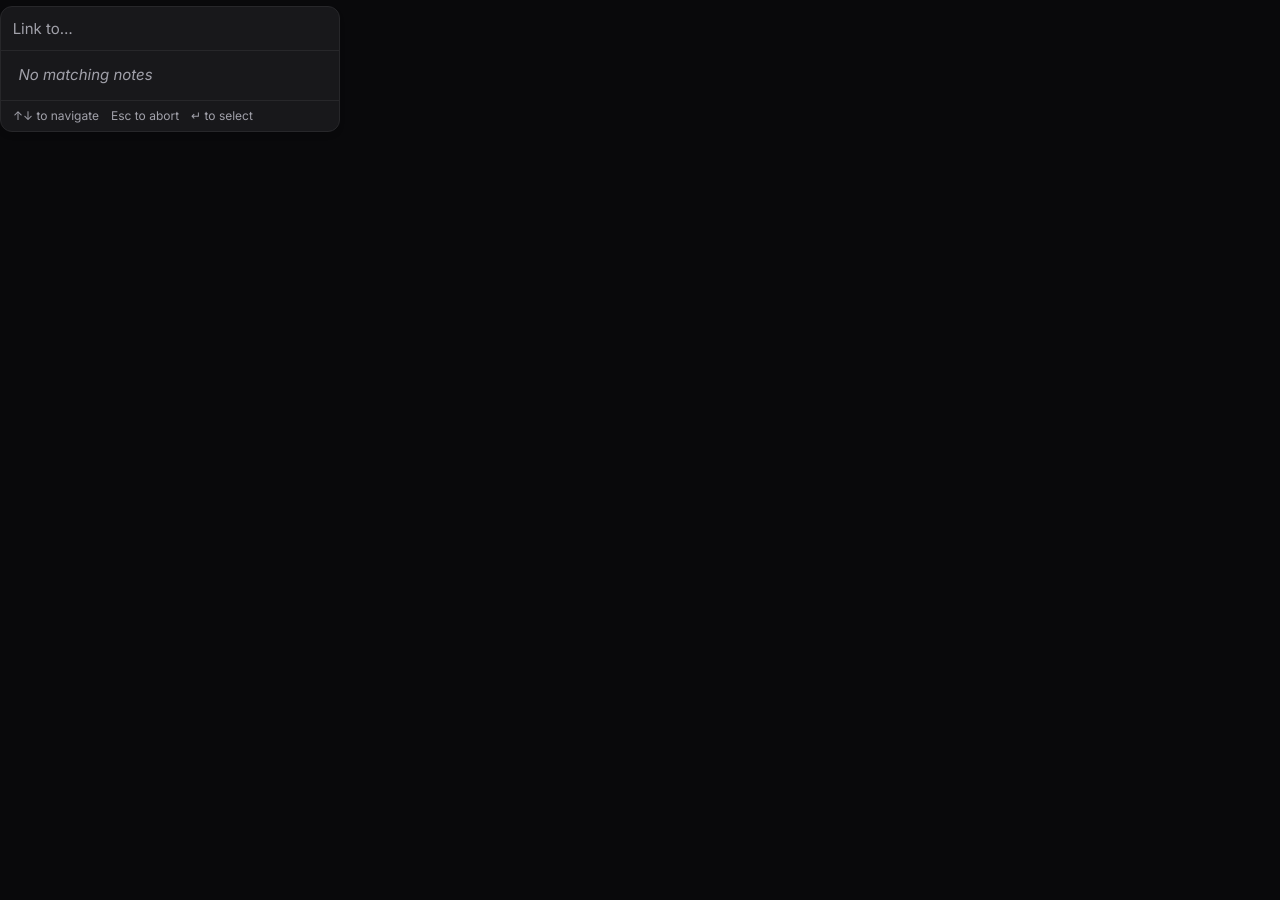
Test case: [ [ create rows (M29) › typing APP01 offers New 'APP01' as Host, suggested
This screenshot has width=1280, height=900.
In the field named "Search notes": coordinates (170, 28) [13, 7, 327, 50], type "APP01"
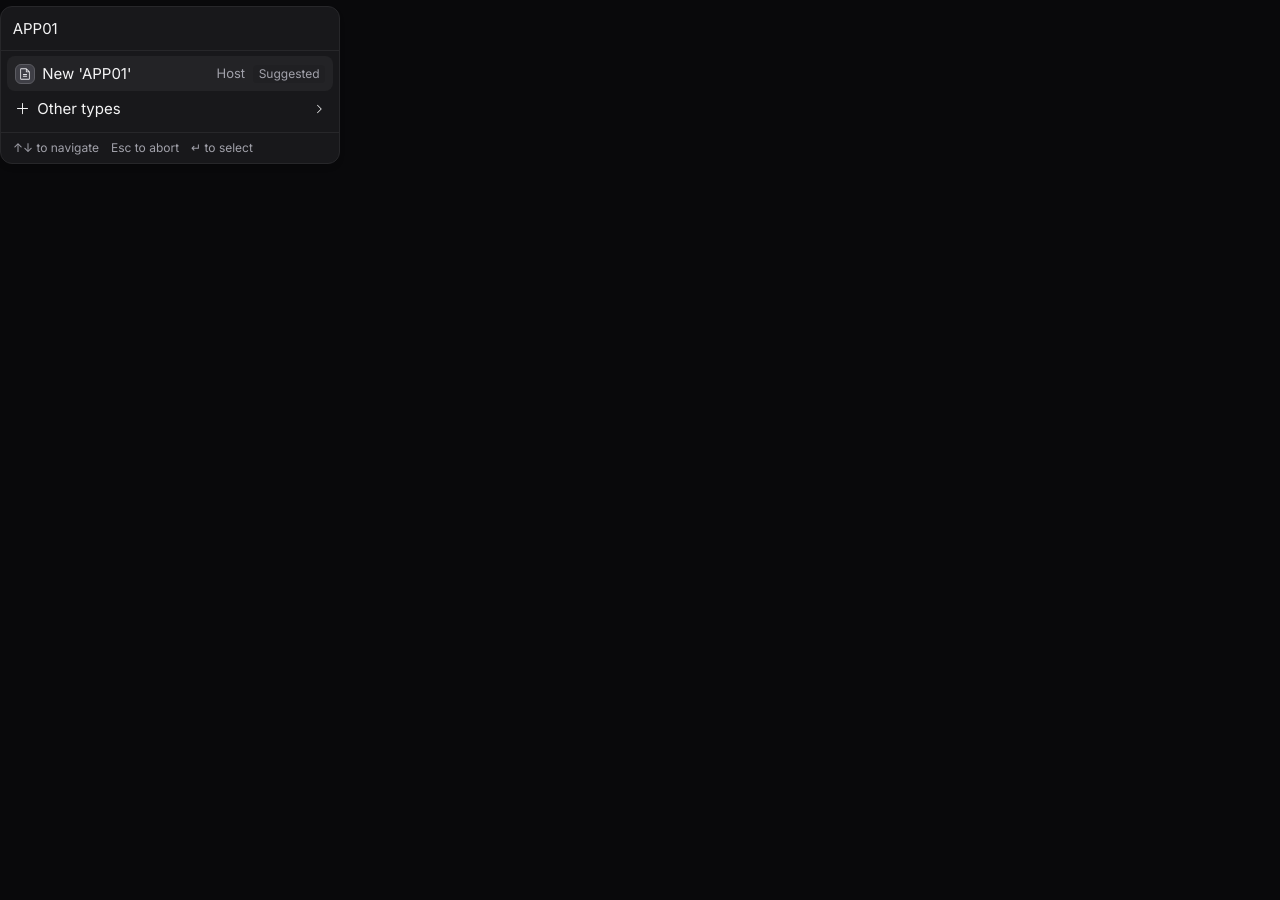
Check: the options read "New 'APP01'HostSuggested", "Other types", in this order, box [7, 56, 333, 91]; [7, 91, 333, 126]
